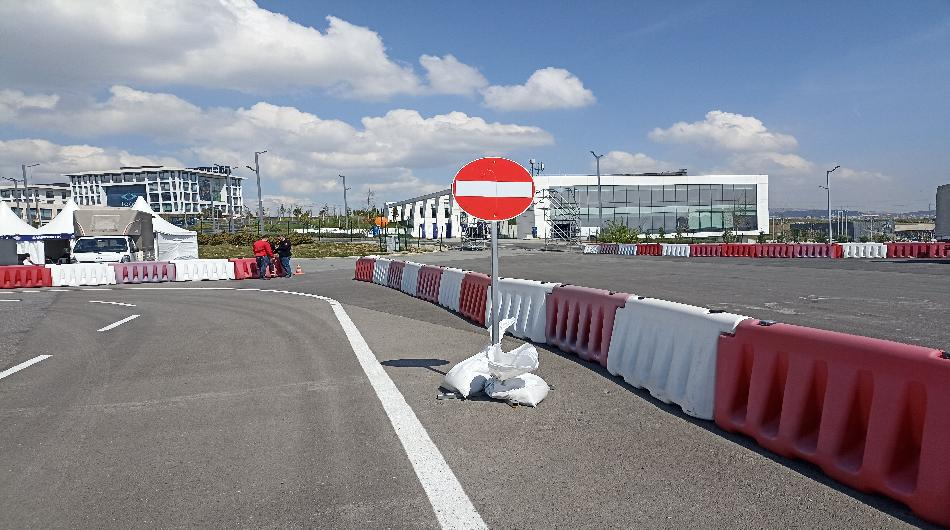girilmez: (445, 154, 536, 226)
